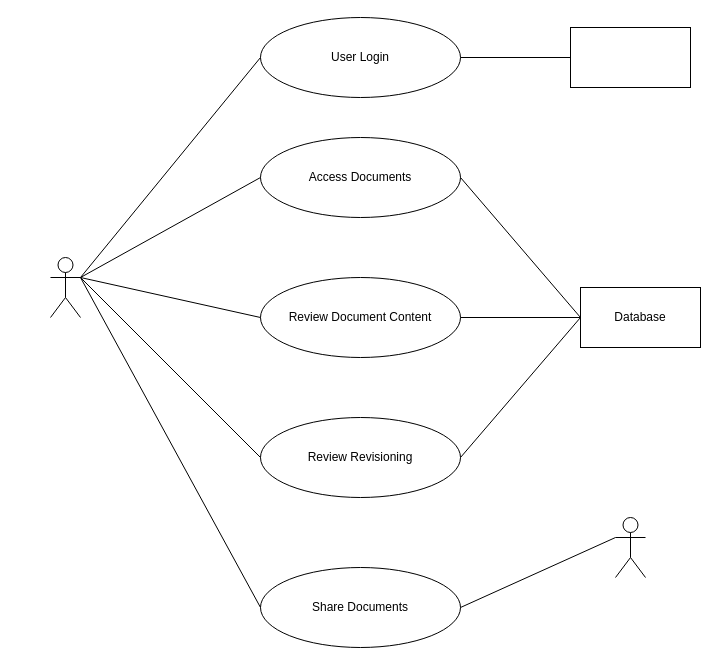
The diagram is 718 pixels wide and 665 high, and some of its shapes have lost their labels. The centre of each missing label's shape, as x and y in pixels:
Access Control: point (630, 57)
Collaborator: point (630, 547)
Quality Assurance: point (65, 287)
